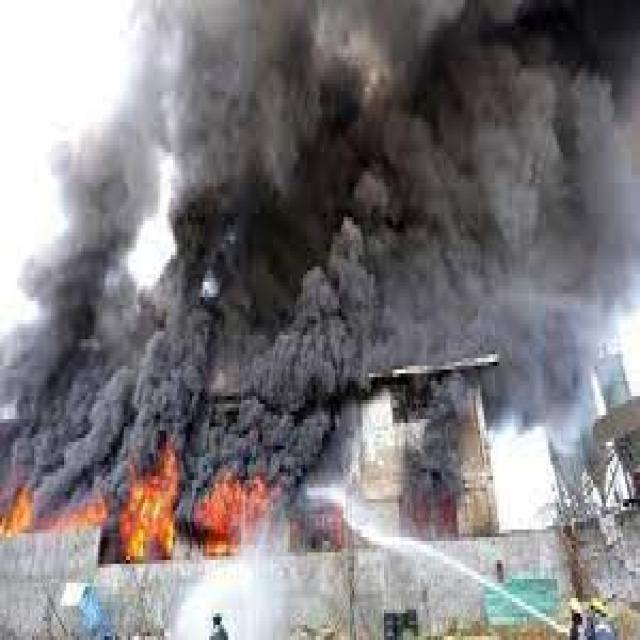Fire: (6, 481, 314, 565)
Smoke: (150, 0, 640, 370), (15, 326, 379, 460)
